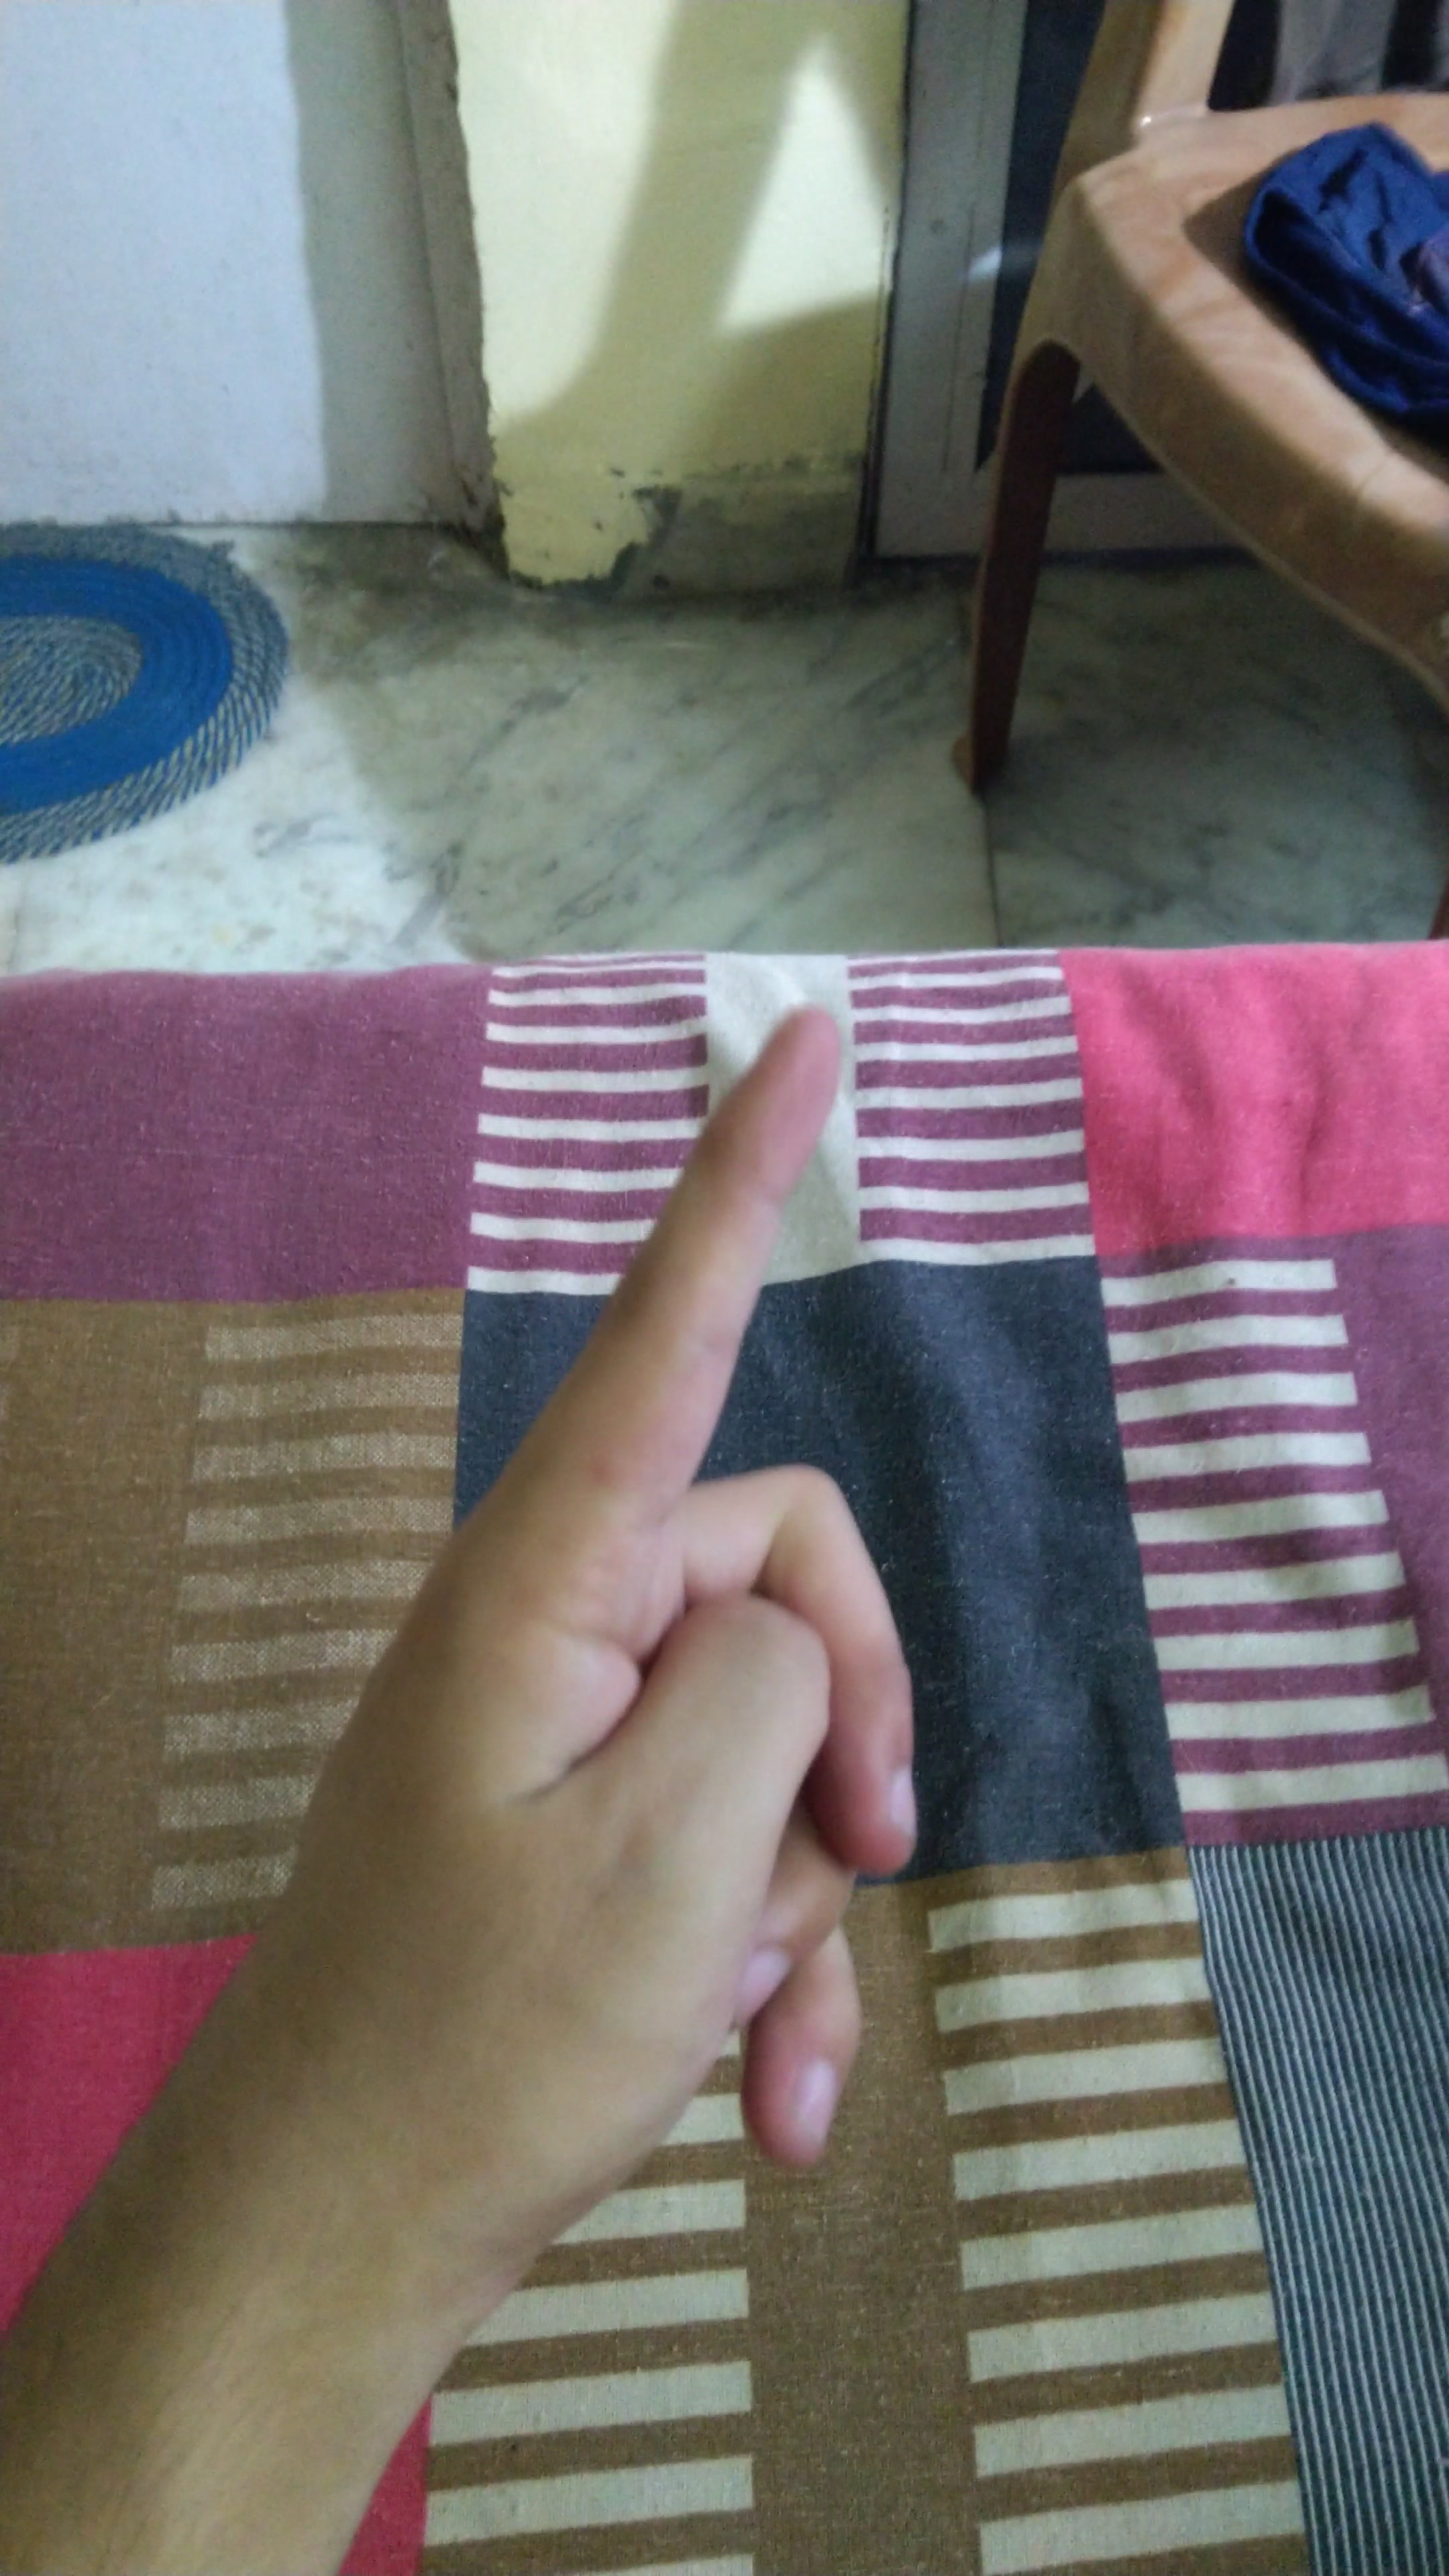hand: (225, 996, 1083, 2252)
